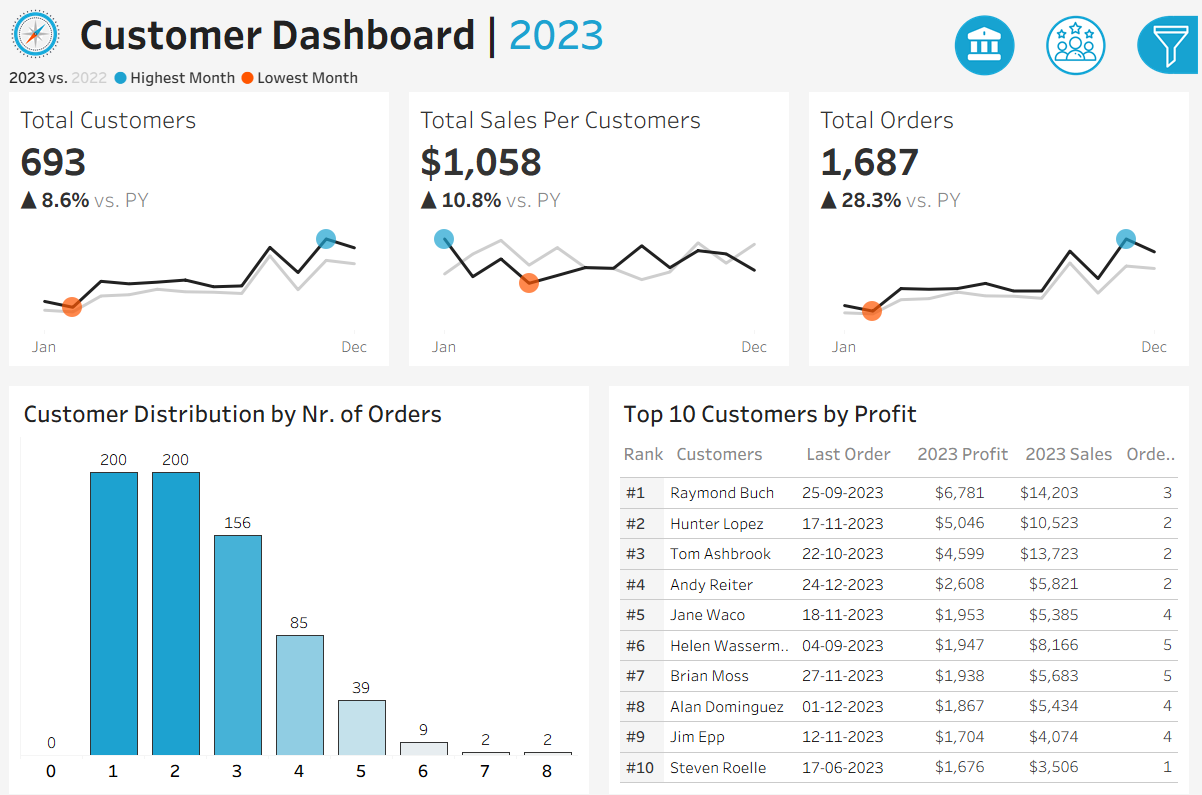

What the dashboard file says about the page in this screenshot:
{"tool":"tableau","page":{"name":"Customer Dashboard","canvas":[1200,800],"ordinal":0},"visuals":[{"type":"image","param":"Image/Icon - Logo.png","box":[0,0,73,59]},{"type":"text","box":[73,0,820,59]},{"type":"dashboard-object","box":[940,6,91,70]},{"type":"dashboard-object","box":[1031,6,91,70]},{"type":"blank","box":[952,10,237,86]},{"type":"worksheet","title":"Legend KPI","mark":"Automatic","box":[0,59,1200,29]},{"type":"worksheet","title":"KPI Customers","mark":"Automatic","rows":["Min/Max Quantity (copy)_3221481164588691468"],"cols":["Order Date"],"box":[0,88,400,284]},{"type":"worksheet","title":"KPI Sales Per Customers","mark":"Automatic","rows":["Min/Max Quantity (copy)_3221481164537155591"],"cols":["Order Date"],"box":[400,88,400,284]},{"type":"worksheet","title":"KPI Orders","mark":"Automatic","rows":["Min/Max Sales (copy)_3221481164601258003"],"cols":["Order Date"],"box":[800,88,400,284]},{"type":"text","box":[952,96,237,37]},{"type":"parameter","param":"[Parameters].[Parameter 1]","box":[952,133,237,55]},{"type":"text","box":[952,188,237,32]},{"type":"filter","title":"KPI Customers","param":"[federated.1kpxa041aiai2y1cl4pui1t4eju9].[none:Category:nk]","box":[952,220,237,57]},{"type":"filter","title":"KPI Customers","param":"[federated.1kpxa041aiai2y1cl4pui1t4eju9].[none:Sub-Category:nk]","box":[952,277,237,57]},{"type":"blank","box":[952,334,237,60]},{"type":"text","box":[17,389,566,40]},{"type":"text","box":[617,389,566,40]},{"type":"text","box":[952,394,237,32]},{"type":"filter","title":"KPI Customers","param":"[federated.1kpxa041aiai2y1cl4pui1t4eju9].[none:Region:nk]","box":[952,426,237,57]},{"type":"worksheet","title":"Customer Distribution","mark":"Bar","rows":["CY Sales (copy)_3221481164532666369"],"cols":["Calculation_998110323739992064"],"box":[17,429,566,354]},{"type":"text","box":[617,429,53,40]},{"type":"text","box":[670,429,130,40]},{"type":"text","box":[800,429,111,40]},{"type":"text","box":[911,429,108,40]},{"type":"text","box":[1019,429,101,40]},{"type":"text","box":[1120,429,63,40]},{"type":"worksheet","title":"Top Customers","mark":"Automatic","rows":["Calculation_782500491678904334","Customer Name","Order Date"],"box":[617,469,566,314]},{"type":"filter","title":"KPI Customers","param":"[federated.1kpxa041aiai2y1cl4pui1t4eju9].[none:State:nk]","box":[952,483,237,57]},{"type":"filter","title":"KPI Customers","param":"[federated.1kpxa041aiai2y1cl4pui1t4eju9].[none:City:nk]","box":[952,540,237,57]}]}

Visuals, with their boxes in screenshot pixels (x1, y1, x2, y2), scaled from the page's 1200x800 canvas onto the 1202x795 screenshot:
image: (0,0,73,59)
text: (73,0,894,59)
dashboard-object: (942,6,1033,76)
dashboard-object: (1033,6,1124,76)
blank: (954,10,1191,95)
"Legend KPI" worksheet: (0,59,1201,87)
"KPI Customers" worksheet: (0,87,401,370)
"KPI Sales Per Customers" worksheet: (401,87,801,370)
"KPI Orders" worksheet: (801,87,1201,370)
text: (954,95,1191,132)
parameter: (954,132,1191,187)
text: (954,187,1191,219)
"KPI Customers" filter: (954,219,1191,275)
"KPI Customers" filter: (954,275,1191,332)
blank: (954,332,1191,392)
text: (17,387,584,426)
text: (618,387,1185,426)
text: (954,392,1191,423)
"KPI Customers" filter: (954,423,1191,480)
"Customer Distribution" worksheet (Bar marks): (17,426,584,778)
text: (618,426,671,466)
text: (671,426,801,466)
text: (801,426,913,466)
text: (913,426,1021,466)
text: (1021,426,1122,466)
text: (1122,426,1185,466)
"Top Customers" worksheet: (618,466,1185,778)
"KPI Customers" filter: (954,480,1191,537)
"KPI Customers" filter: (954,537,1191,593)
